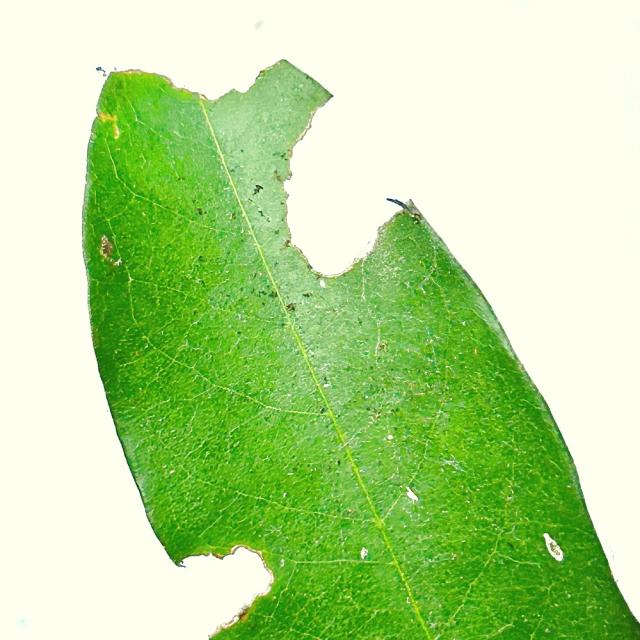Deficiency Leaf: (285, 96, 417, 279), (102, 33, 292, 102), (166, 548, 273, 639)
Lychee: (79, 60, 639, 639)
